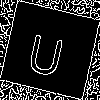U: (24, 25, 69, 78)
